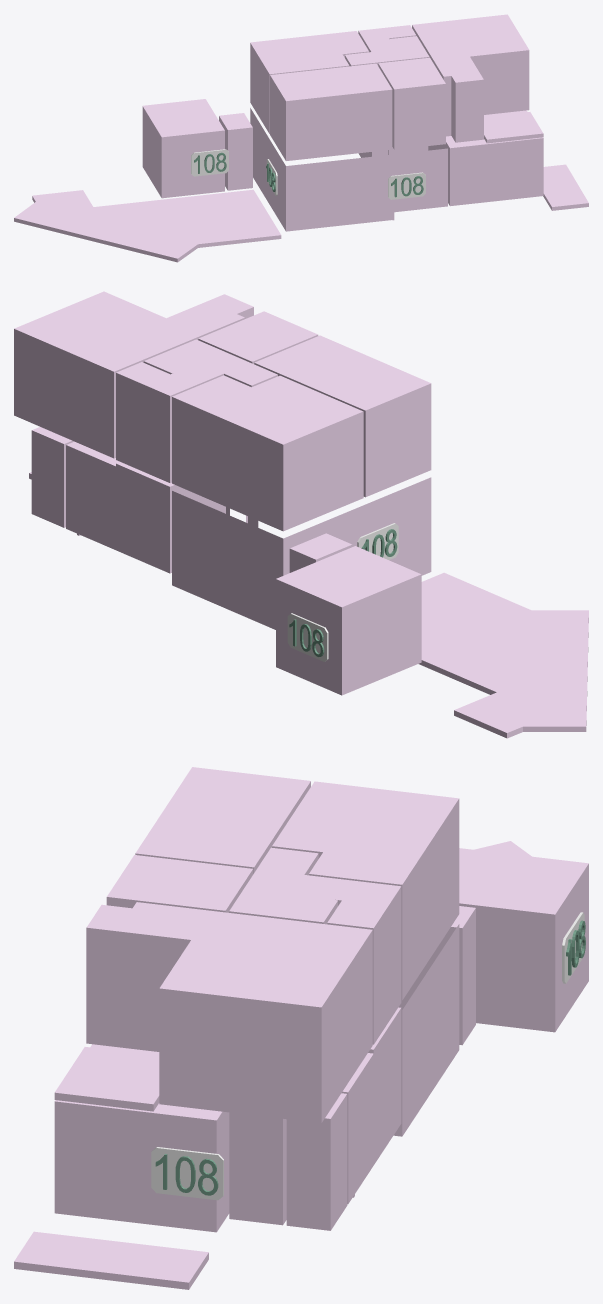
3 views of the same model, one above another, from view 1: azimuth 30°, elevation 25°; view 2: azimuth 150°, elevation 25°; view 3: azimuth 270°, elevation 25° (orthographic). The views are drawn at different scales.
Parts seen in each view (by area): view 1: g_13, g_1, g_7, g_11, g_5, g_0, g_9, g_6, g_4, g_8, g_12, g_14 (+3 smaller); view 2: g_6, g_13, g_11, g_1, g_5, g_7, g_2, g_10, g_9, g_8, g_3, g_4 (+2 smaller); view 3: g_11, g_6, g_5, g_0, g_2, g_7, g_1, g_12, g_3, g_9, g_10, g_8 (+3 smaller).
Boxes of the visible parts, x1=… form: g_13: x1=14, y1=189, x2=281, y2=262; g_1: x1=250, y1=108, x2=447, y2=231; g_7: x1=270, y1=63, x2=392, y2=160; g_11: x1=412, y1=14, x2=529, y2=142; g_5: x1=142, y1=99, x2=224, y2=198; g_0: x1=428, y1=110, x2=543, y2=206; g_9: x1=378, y1=57, x2=445, y2=149; g_6: x1=250, y1=31, x2=369, y2=133; g_4: x1=219, y1=113, x2=252, y2=190; g_8: x1=345, y1=36, x2=429, y2=66; g_12: x1=543, y1=164, x2=588, y2=210; g_14: x1=484, y1=112, x2=543, y2=143; g_6: x1=172, y1=375, x2=363, y2=531; g_13: x1=419, y1=572, x2=588, y2=738; g_11: x1=14, y1=291, x2=253, y2=458; g_1: x1=172, y1=477, x2=431, y2=629; g_5: x1=276, y1=546, x2=421, y2=695; g_7: x1=254, y1=335, x2=431, y2=497; g_2: x1=66, y1=441, x2=225, y2=573; g_10: x1=116, y1=362, x2=199, y2=482; g_9: x1=198, y1=311, x2=318, y2=363; g_8: x1=143, y1=339, x2=277, y2=387; g_3: x1=31, y1=427, x2=73, y2=527; g_4: x1=289, y1=533, x2=352, y2=572; g_11: x1=86, y1=902, x2=372, y2=1123; g_6: x1=272, y1=781, x2=459, y2=1000; g_5: x1=459, y1=848, x2=588, y2=1032; g_0: x1=54, y1=1044, x2=229, y2=1232; g_2: x1=229, y1=1007, x2=401, y2=1225; g_7: x1=135, y1=767, x2=310, y2=873; g_1: x1=393, y1=924, x2=459, y2=1136; g_12: x1=14, y1=1231, x2=208, y2=1289; g_3: x1=286, y1=1093, x2=347, y2=1230; g_9: x1=106, y1=855, x2=253, y2=912; g_10: x1=327, y1=880, x2=401, y2=1044; g_8: x1=229, y1=847, x2=347, y2=924.
Size of the model in its own units: 19.5 by 5.35 by 10.73.
